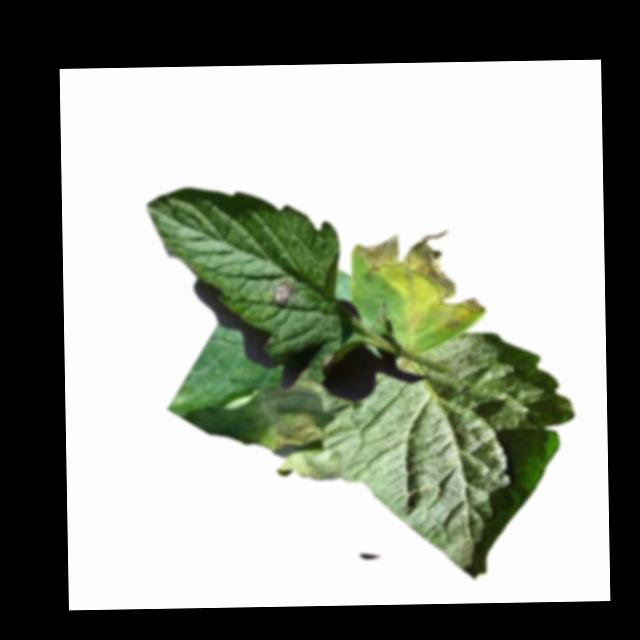Late_blight: (181, 379, 342, 485), (354, 230, 485, 332), (272, 281, 295, 308)
